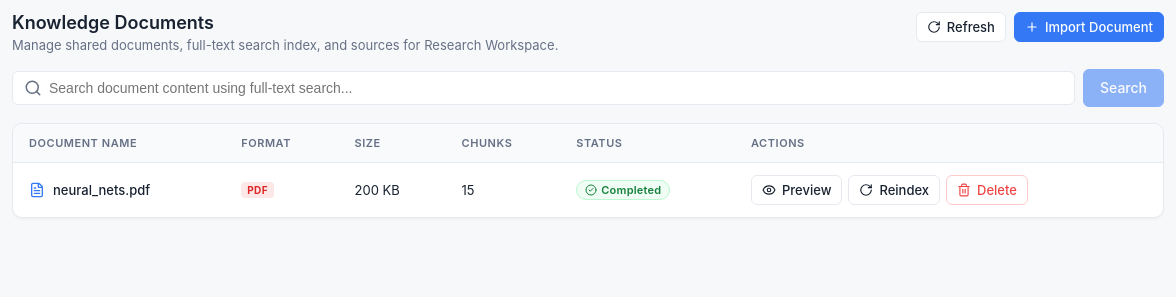
WorkspaceKnowledgeTab (Phase 5 Step 5.11) › 4. Document Search › searches document content and renders results with provenance and highlighted snippets
Expected: the text "neural_nets.pdf" is shown, [53,182,150,198]
Type "gradient descent" into the field with test id "input-document-search". click: (544, 88)
box: [12,71,1075,105]
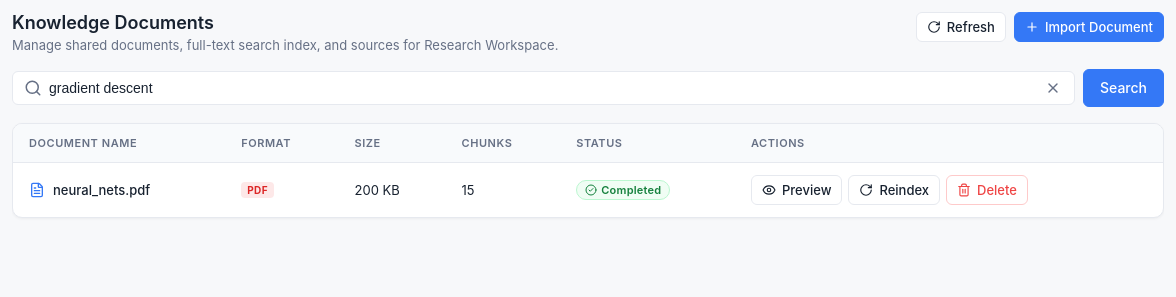
Click the button with test id "btn-submit-search". click: (1124, 88)
box: [1083,69,1164,107]
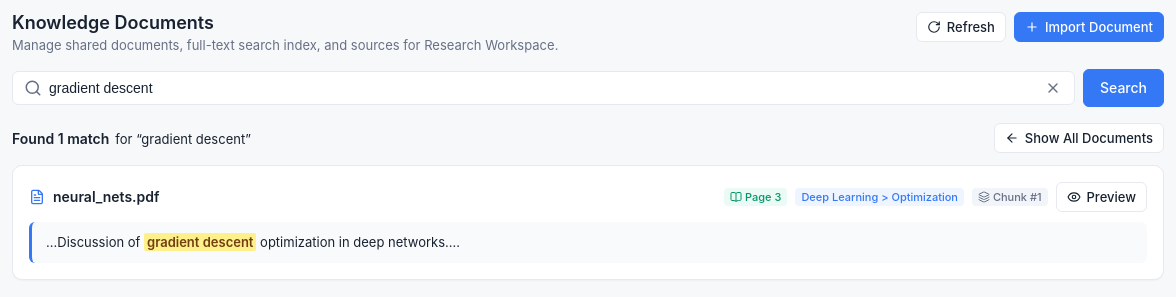
Now the element with test id "search-results-section" is shown, box [12,123,1164,280]
Now the element with test id "result-page-0" reads "Page 3", box [724,188,787,206]
Now the text with test id "result-heading-0" reads "Deep Learning > Optimization", box [801,190,958,204]
